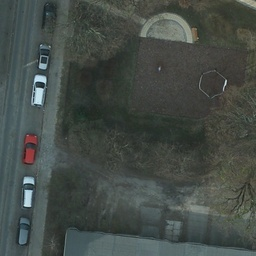car: (20, 131, 37, 163), (30, 72, 47, 104), (35, 40, 52, 72), (40, 1, 57, 33), (15, 215, 31, 246), (20, 177, 36, 208)
